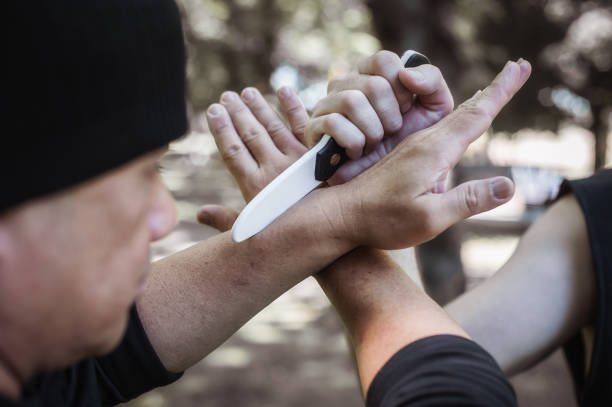knife: (228, 50, 435, 245)
